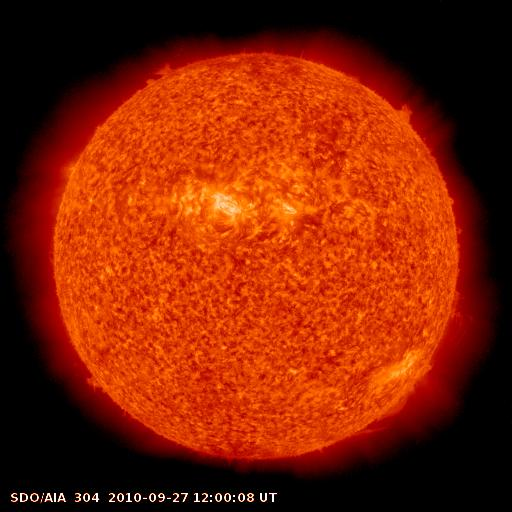prominence: (341, 385, 415, 443), (128, 53, 199, 91), (378, 84, 428, 136), (73, 363, 113, 406), (441, 285, 471, 336)
